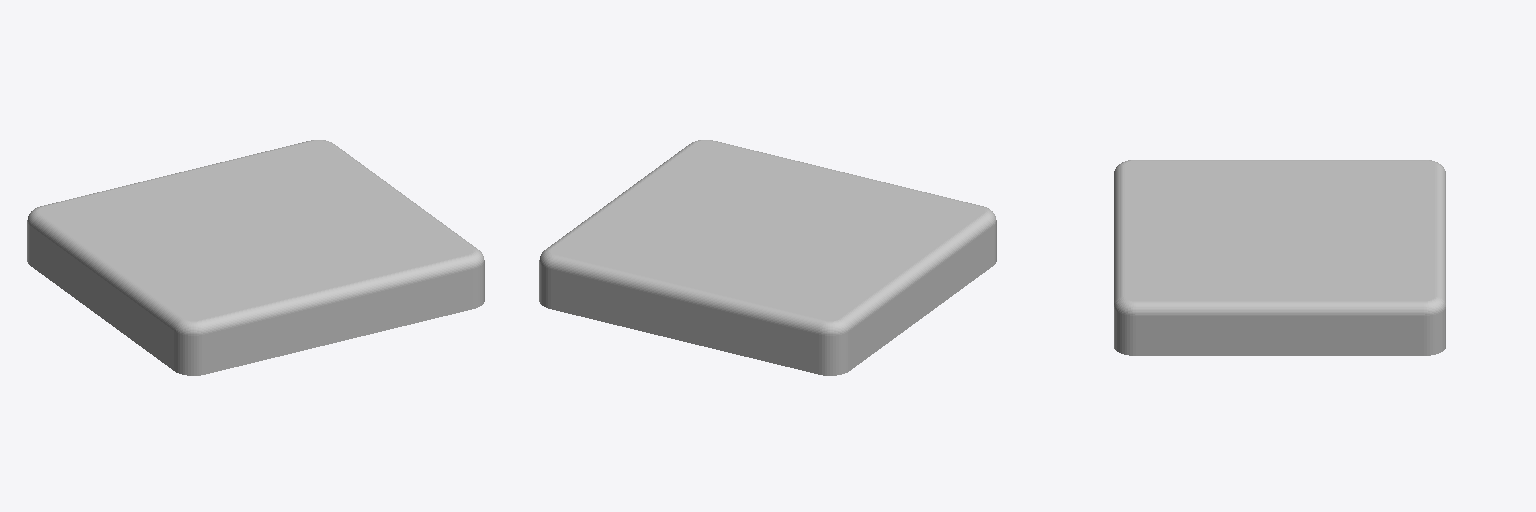
The model's file is original-63.obj.
3 renders of one model, left to right at view 1: azimuth 30°, elevation 25°; view 2: azimuth 150°, elevation 25°; view 3: azimuth 270°, elevation 25°, orthographic.
Parts seen in each view (by area): view 1: Component_9_17/Component_9/mesh14/mesh14-geometry#mesh14-geometr; view 2: Component_9_17/Component_9/mesh14/mesh14-geometry#mesh14-geometr; view 3: Component_9_17/Component_9/mesh14/mesh14-geometry#mesh14-geometr.
Boxes of the visible parts, x1=… form: Component_9_17/Component_9/mesh14/mesh14-geometry#mesh14-geometr: x1=27, y1=140, x2=484, y2=375; Component_9_17/Component_9/mesh14/mesh14-geometry#mesh14-geometr: x1=539, y1=140, x2=996, y2=375; Component_9_17/Component_9/mesh14/mesh14-geometry#mesh14-geometr: x1=1114, y1=160, x2=1445, y2=355.
Bounding box in the file's own units: 0.0633 × 0.0099 × 0.0594.